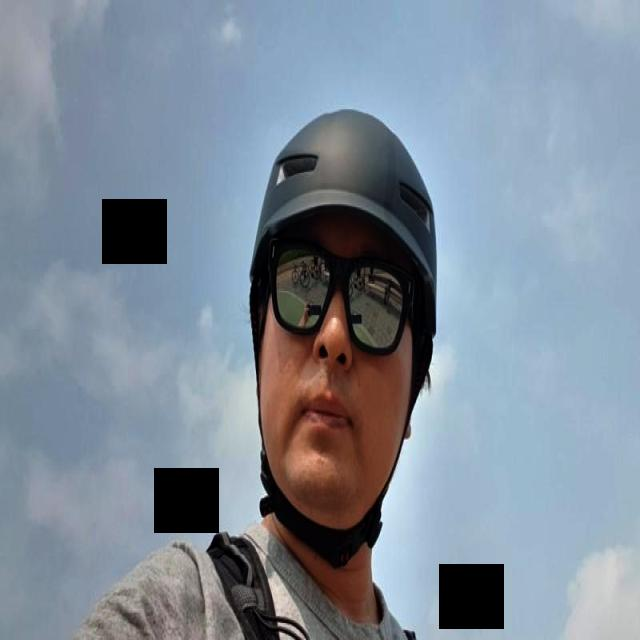Helmet: (248, 106, 438, 546)
